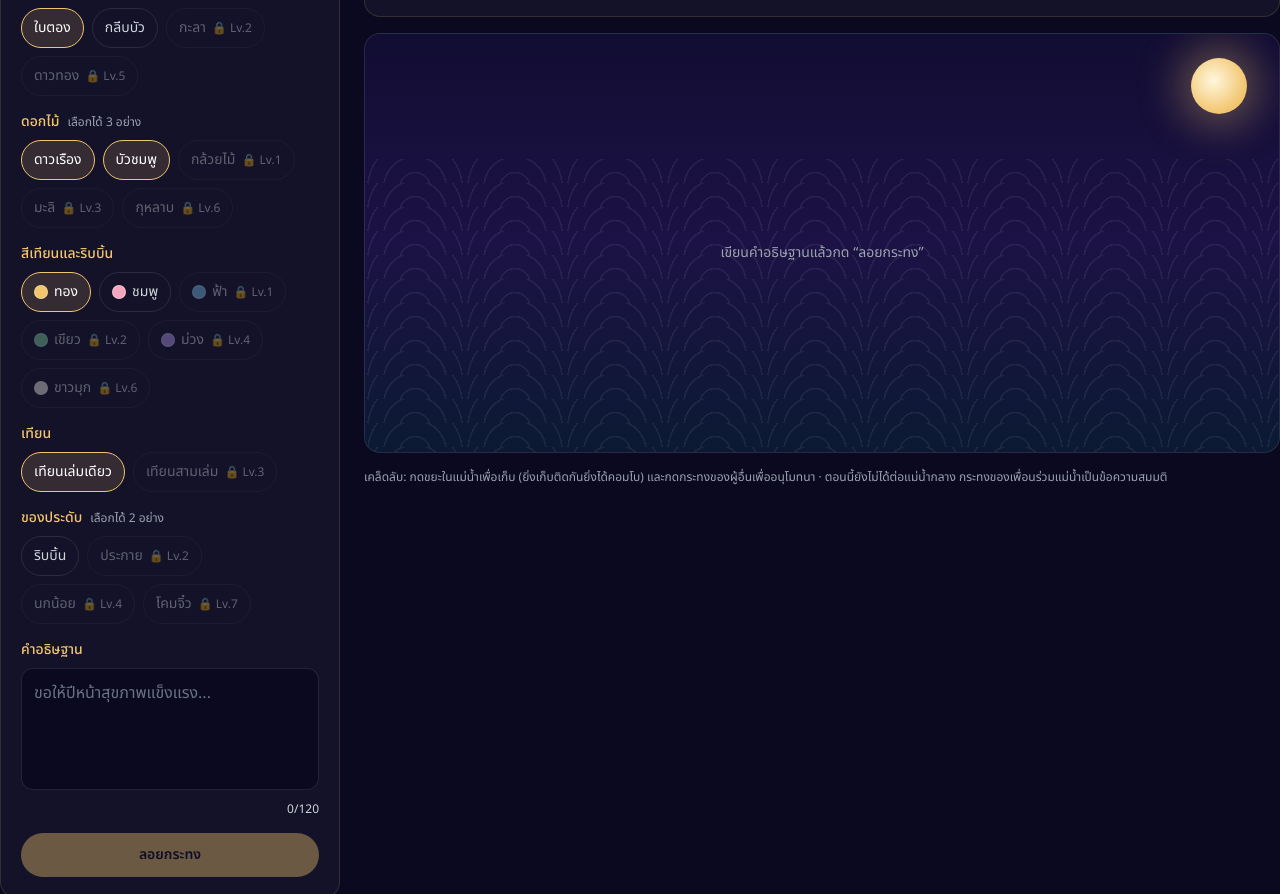
Test: RiverFloat › ลอยกระทงครั้งแรกได้แต้ม + ภารกิจ + ตรา และขึ้น Lv.1
This screenshot has width=1280, height=894.
(page scrolled)
Type "ขอให้สบายดี" into the text box labelled "คำอธิษฐาน" at [170, 729], box [21,668,319,790]
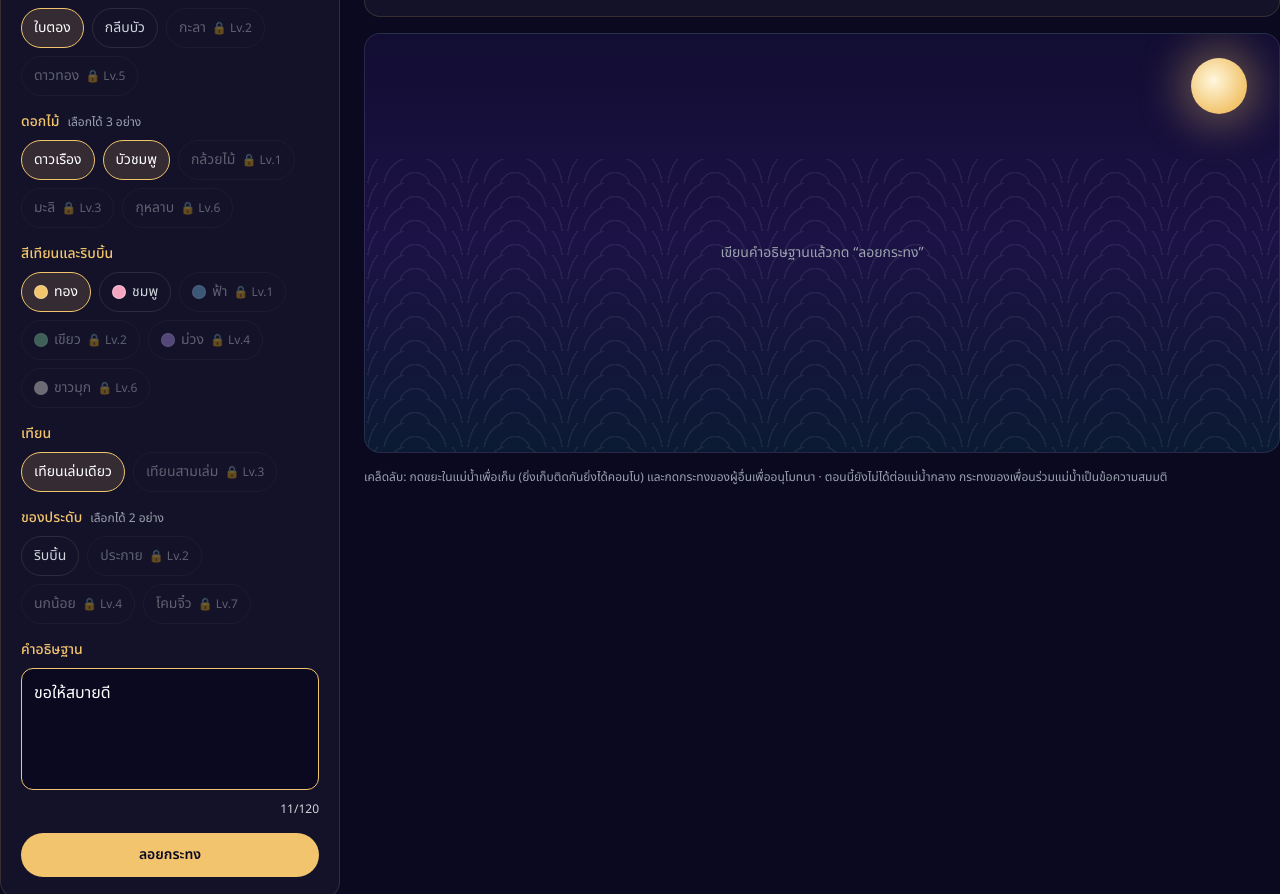
Click the button "ลอยกระทง" at [170, 855], box [21,833,319,877]
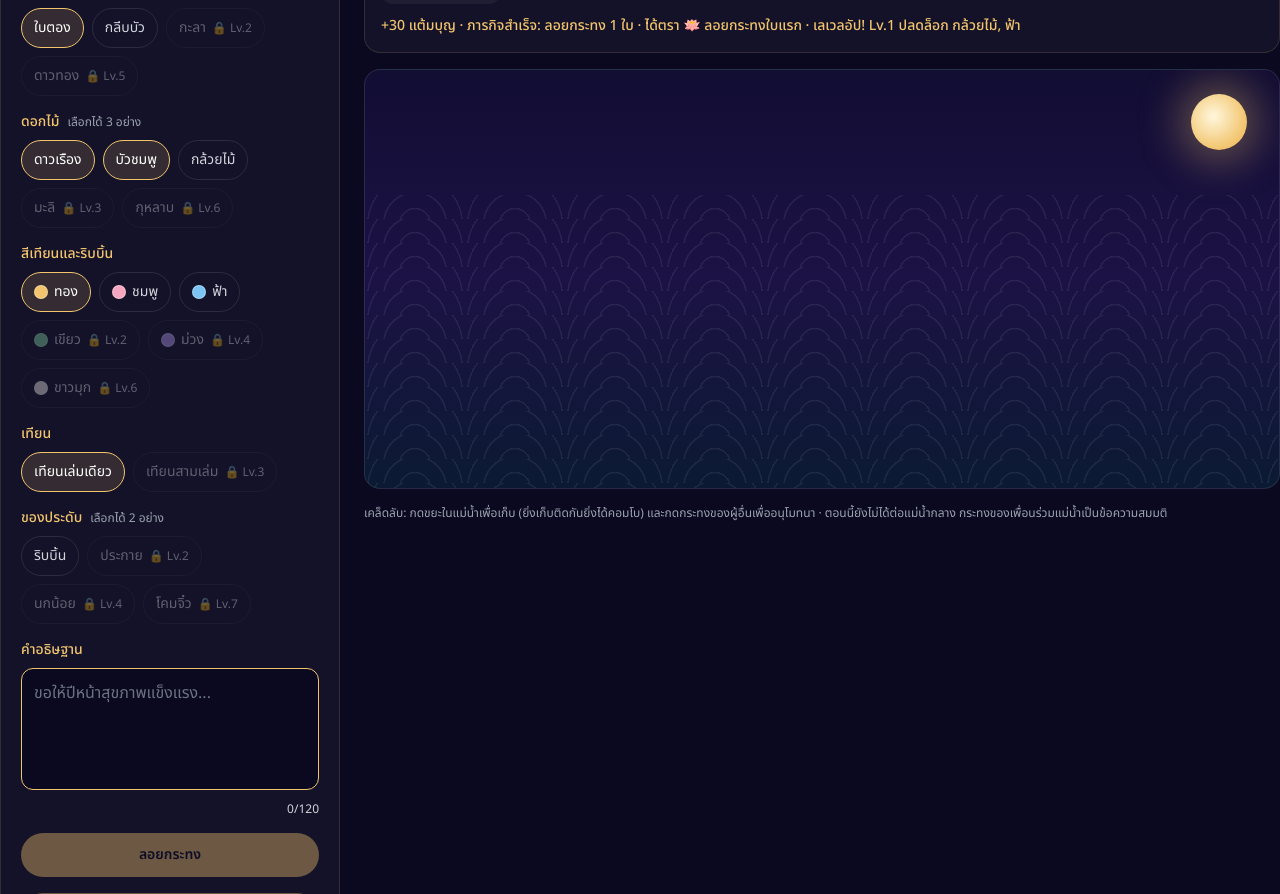
Check: the text "+30 แต้มบุญ · ภารกิจสำเร็จ: ลอยกระทง 1 ใบ · ได้ตรา 🪷 ลอยกระทงใบแรก · เลเวลอัป!" is shown, box [381,15,1020,36]
